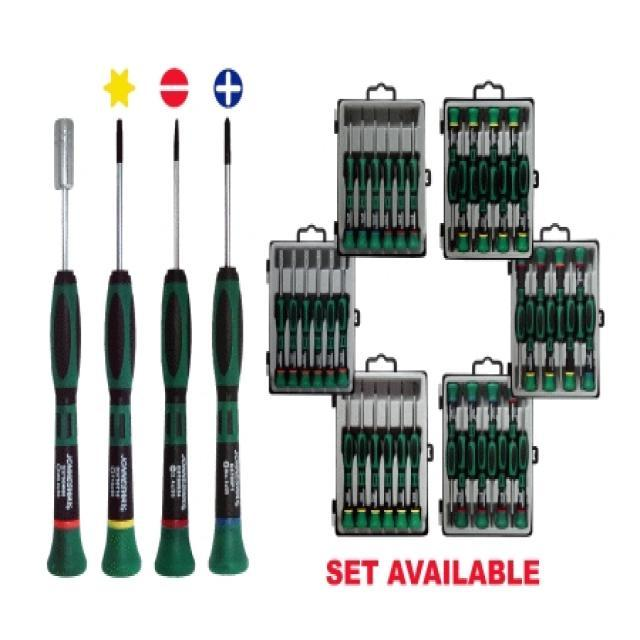screwdriver: (91, 107, 151, 590), (34, 90, 92, 588), (151, 119, 201, 586), (204, 110, 251, 583)
